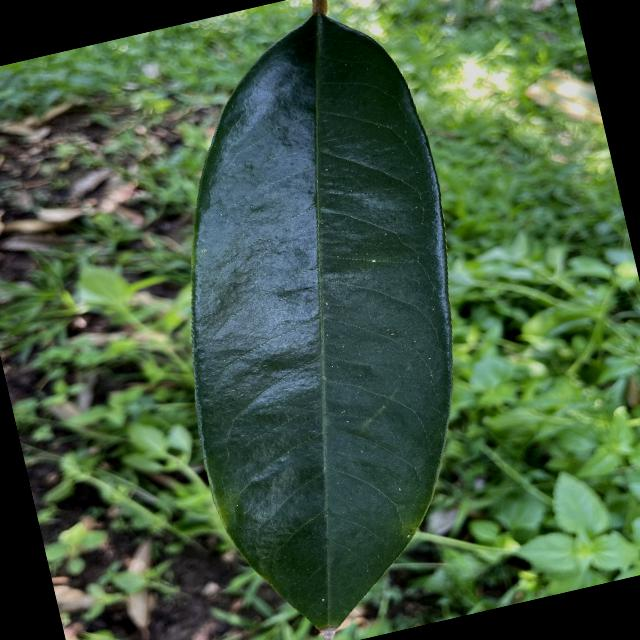No Disease: (93, 0, 544, 639)
